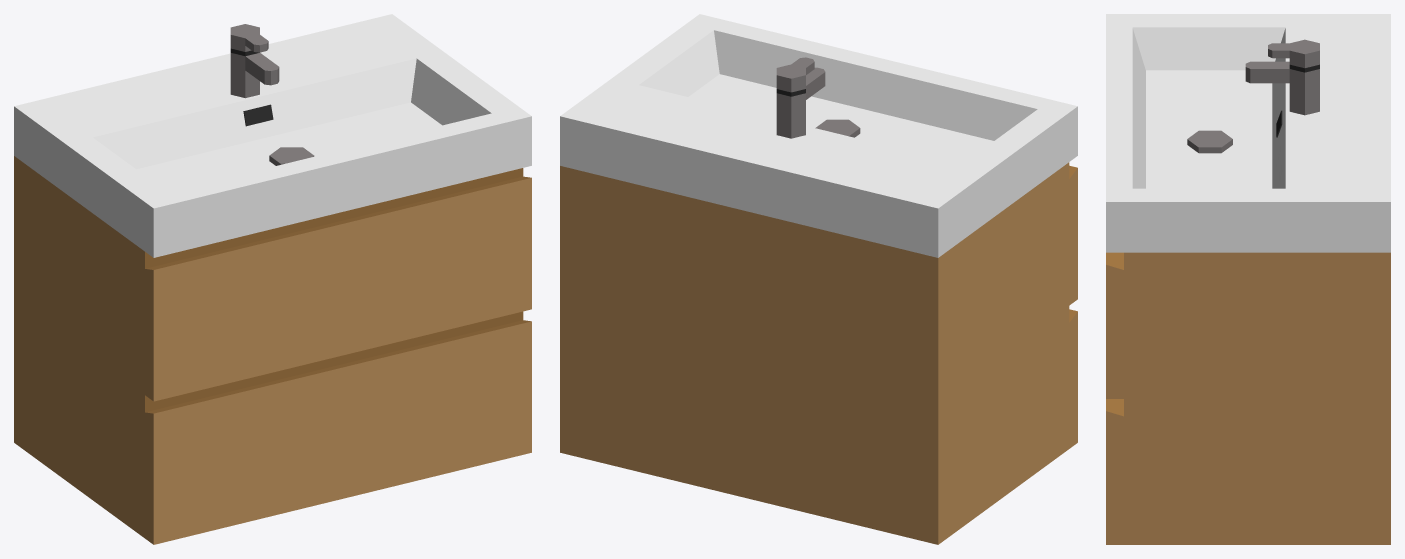
File: furniture_cabinet-bathroom-sink.fbx
The picture shows the model from 3 angles, left to right: view 1: azimuth 30°, elevation 25°; view 2: azimuth 150°, elevation 25°; view 3: azimuth 270°, elevation 25°; orthographic projection.
Visible parts, largest first — view 1: furniture_cabinet_bathroom_sink; view 2: furniture_cabinet_bathroom_sink; view 3: furniture_cabinet_bathroom_sink.
Part boxes in pixels (x1=…): furniture_cabinet_bathroom_sink: x1=14, y1=14, x2=531, y2=544; furniture_cabinet_bathroom_sink: x1=560, y1=14, x2=1077, y2=544; furniture_cabinet_bathroom_sink: x1=1106, y1=14, x2=1390, y2=544.
Bounding box in the file's own units: 154 × 154 × 98.35.
